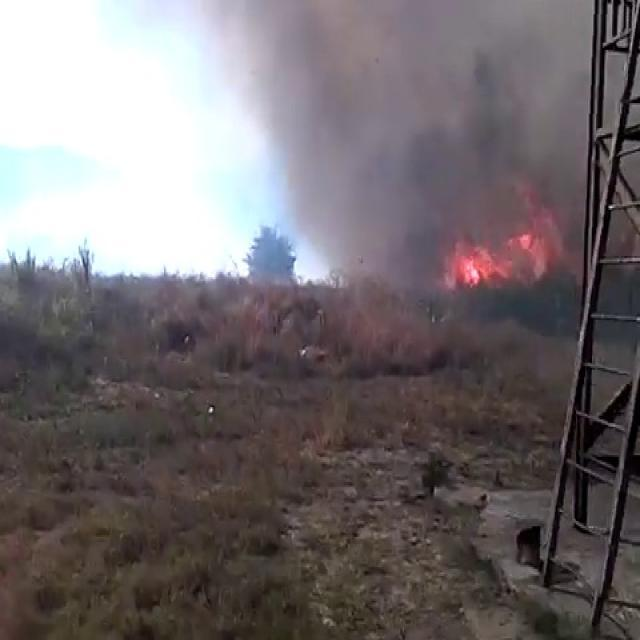Fire: (446, 199, 564, 297)
Smoke: (175, 0, 612, 311)
